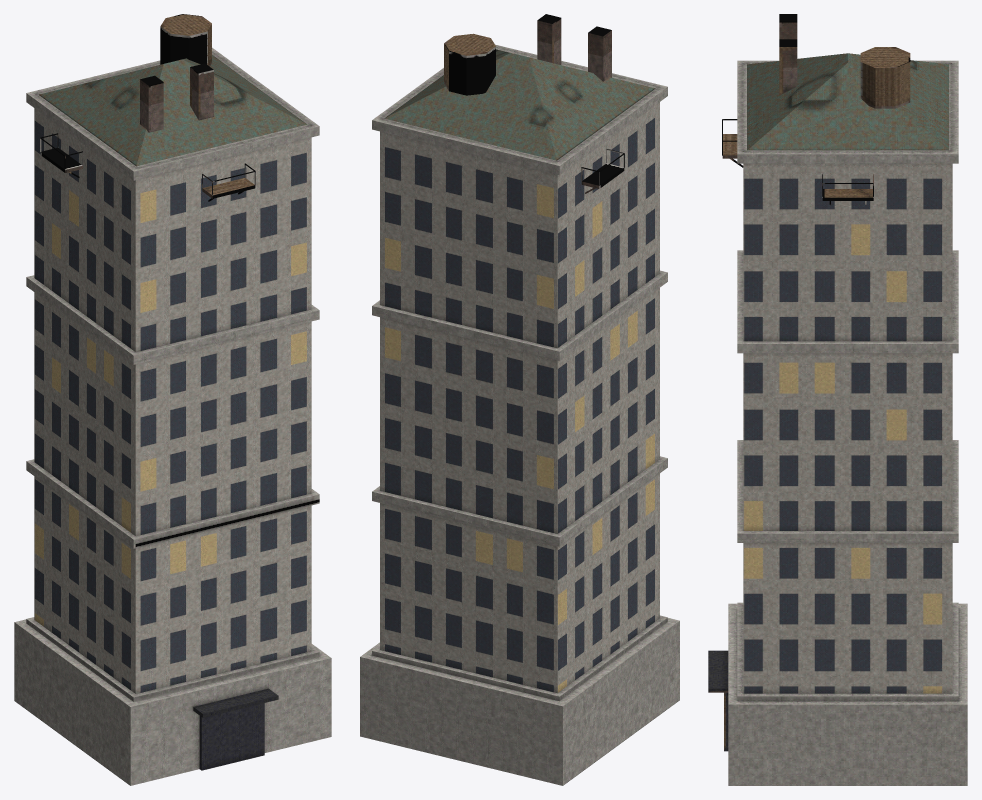
Rendered from SM_Tower_Office_A.fbx.
3 views of the same model, side by side, from view 1: azimuth 30°, elevation 25°; view 2: azimuth 150°, elevation 25°; view 3: azimuth 270°, elevation 25° (orthographic). The views are drawn at different scales.
Parts seen in each view (by area): view 1: SM_Tower_Office_A; view 2: SM_Tower_Office_A; view 3: SM_Tower_Office_A.
Boxes of the visible parts, <box> form: SM_Tower_Office_A: <box>14,14,331,785</box>; SM_Tower_Office_A: <box>360,14,679,785</box>; SM_Tower_Office_A: <box>708,14,967,785</box>.
Size of what is drawn, in the model's own units: 1686 by 5120 by 1735.
Materials: 1 (1 with a texture image).
